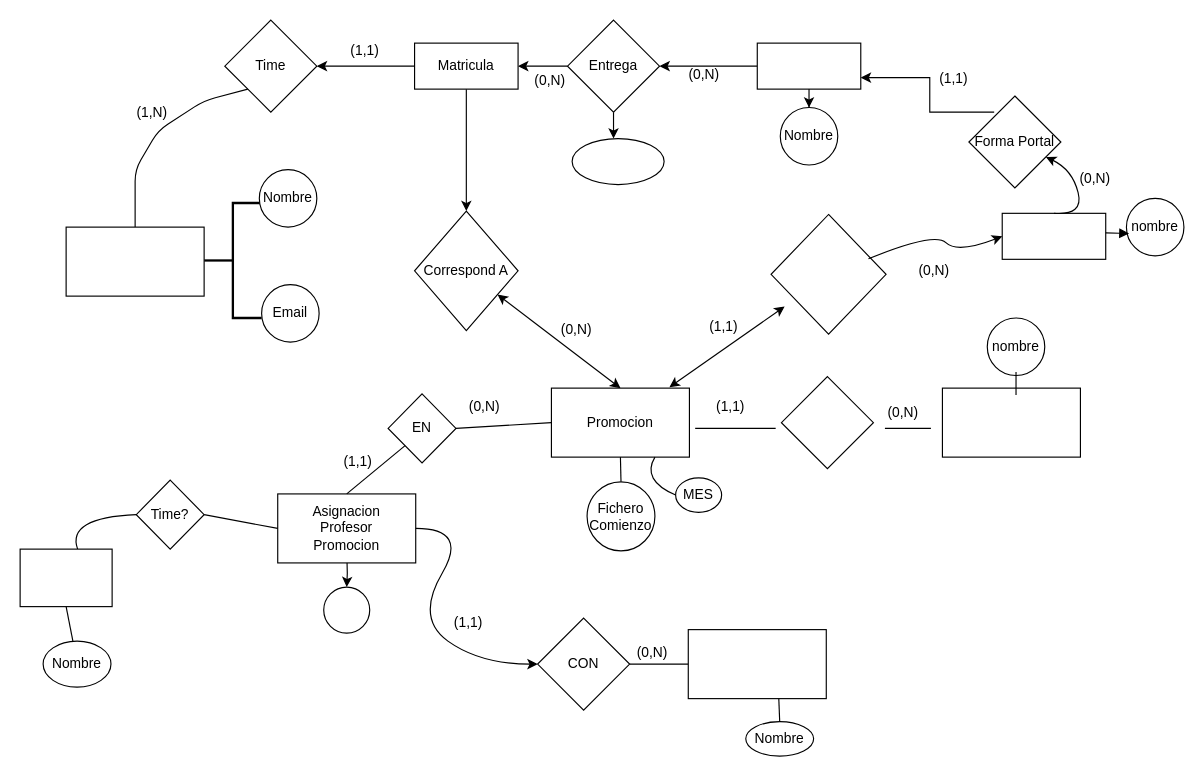
This 1204x776 diagram has some shape labels left out. The shapes that lost their labels are listed below. From the top down, each one's centre as x and y in pixels, then its label:
the point at 808,65: Proyecto
the point at 617,161: Resultado
the point at 1053,235: Vertical
the point at 134,261: Alumno
the point at 828,273: Pertenece A
the point at 826,422: si Importa
the point at 1010,422: Campus
the point at 65,577: Profesor
the point at 346,609: ROL
the point at 756,663: Modalidad
